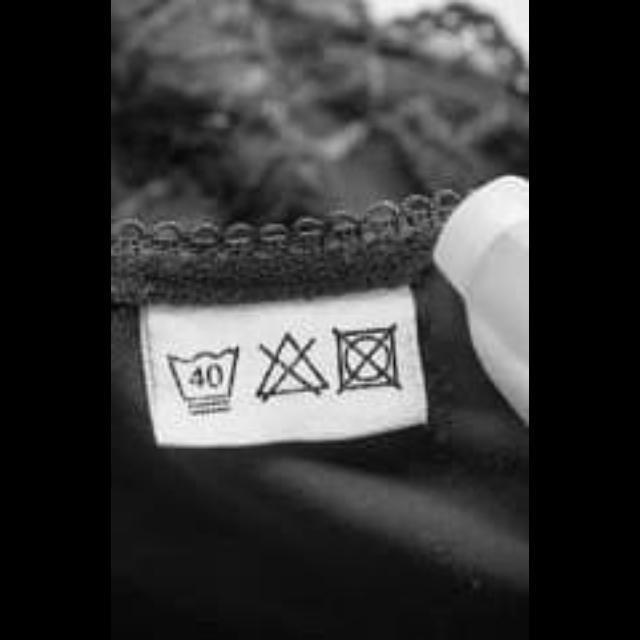40C: (163, 342, 245, 418)
DN_bleach: (254, 327, 334, 407)
DN_tumble_dry: (328, 318, 408, 396)
